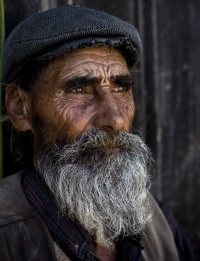Forehead: (45, 42, 133, 81)
